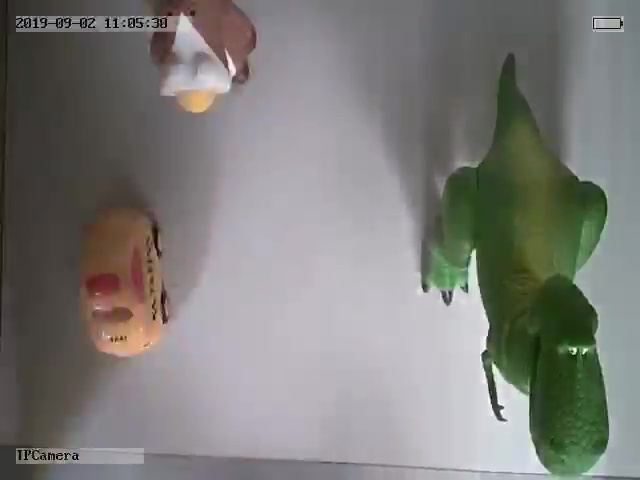car: (80, 207, 173, 359)
rex: (420, 67, 609, 477)
